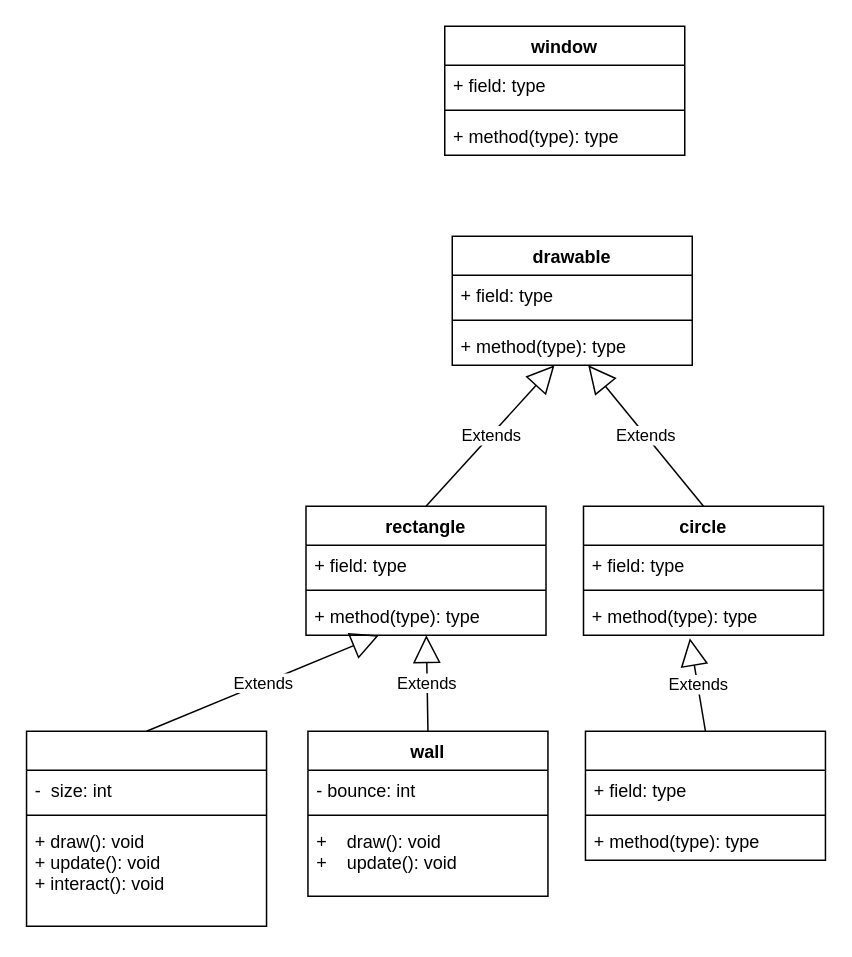
The diagram is 852 pixels wide and 957 high, and some of its shapes have lost their labels. Here are the shapes that lost their labels. From the top down, the box of each, then its label:
(584, 730, 825, 860): ball
(25, 730, 267, 926): victim
